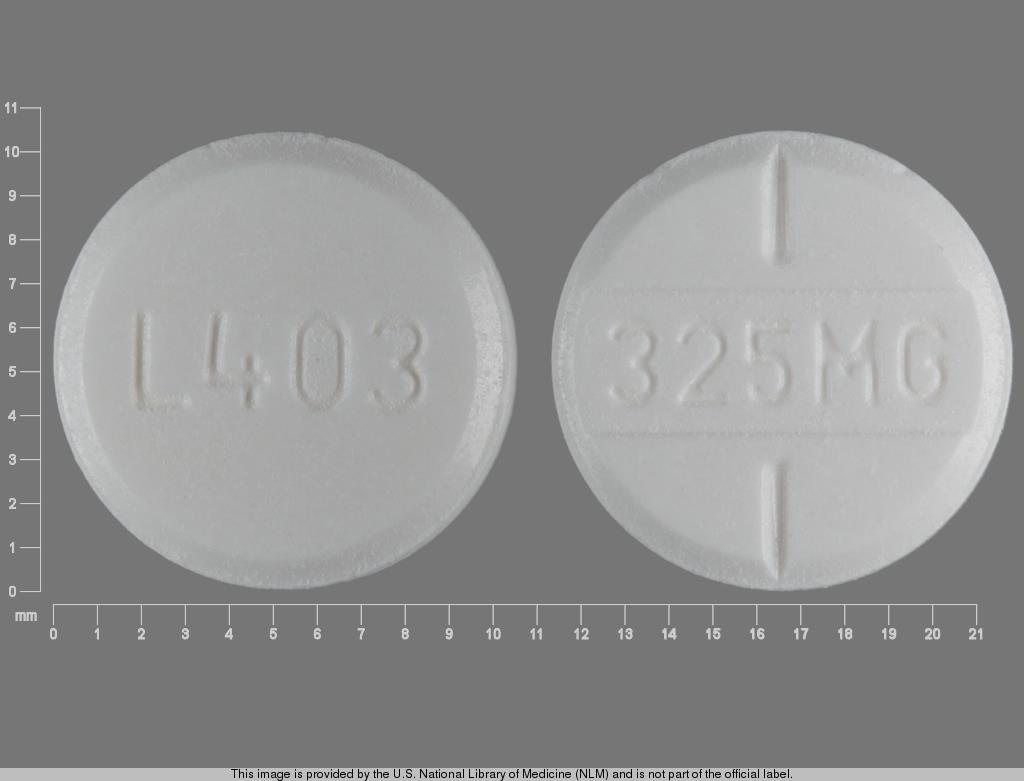Acetaminophen 325 MG Oral Tablet: (48, 111, 533, 597), (541, 113, 1024, 600)
